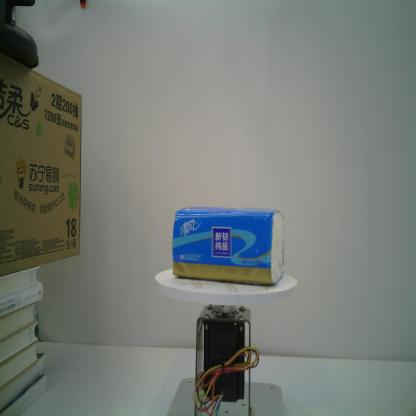Tissue: (172, 206, 284, 286)
